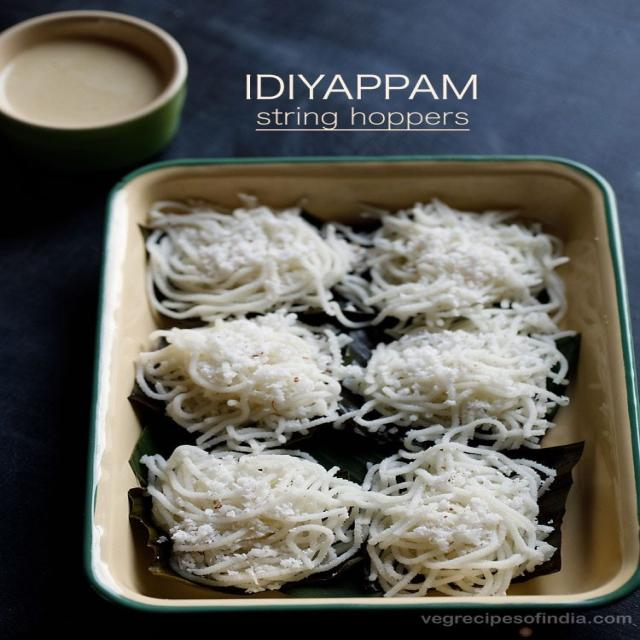IDIYAPPAM: (142, 186, 585, 582)
